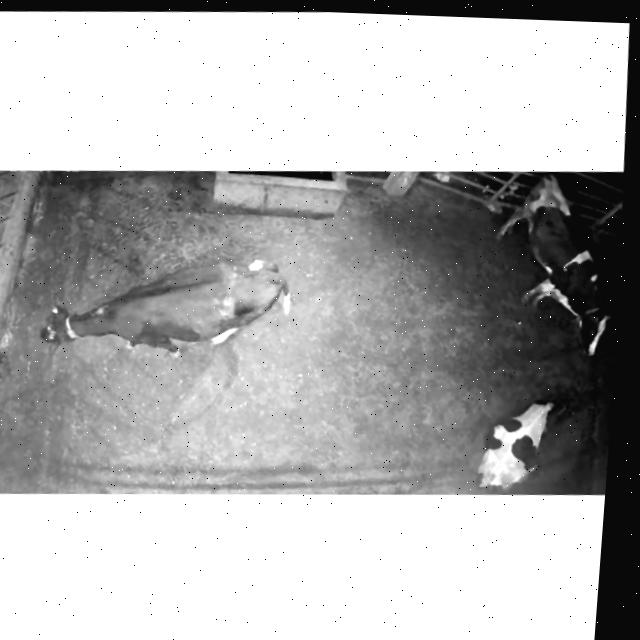stand: (6, 237, 308, 372), (480, 166, 629, 368)
